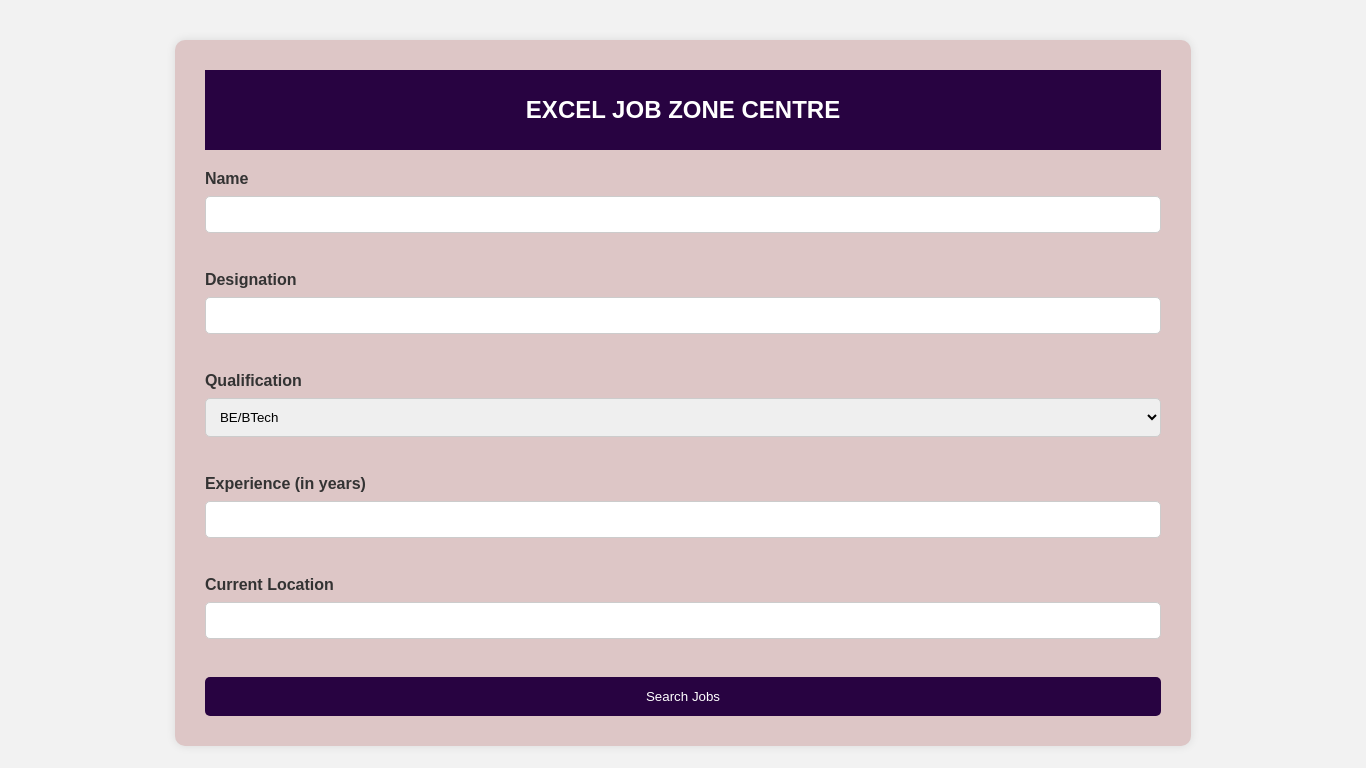
Test: Search component › retrieves companyName from JSON file when the applicant is eligible
Type "Harish" into the field with test id "name-input".
click(683, 214); type("Harish")  # box [205,196,1161,233]
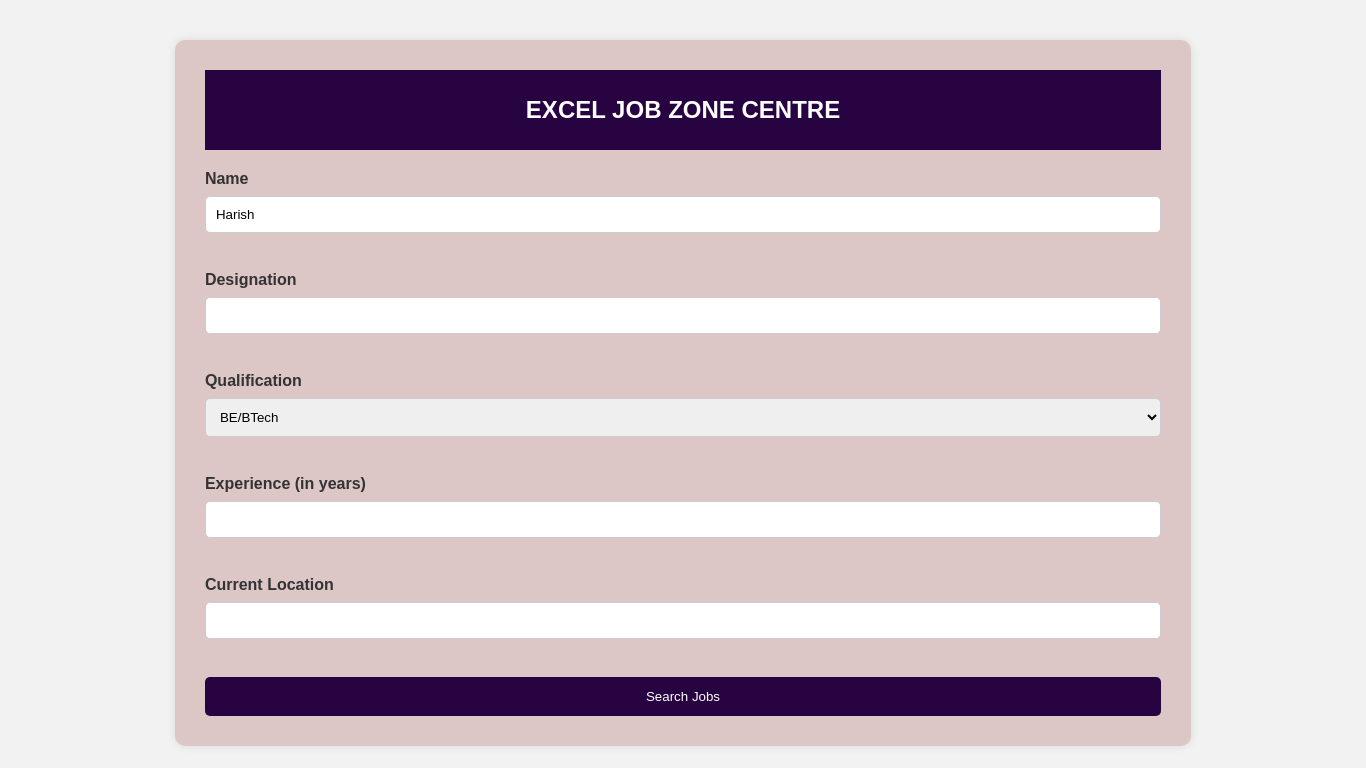
Type "Software Engineer" into the field with test id "designation-input".
click(683, 315); type("Software Engineer")  # box [205,297,1161,334]
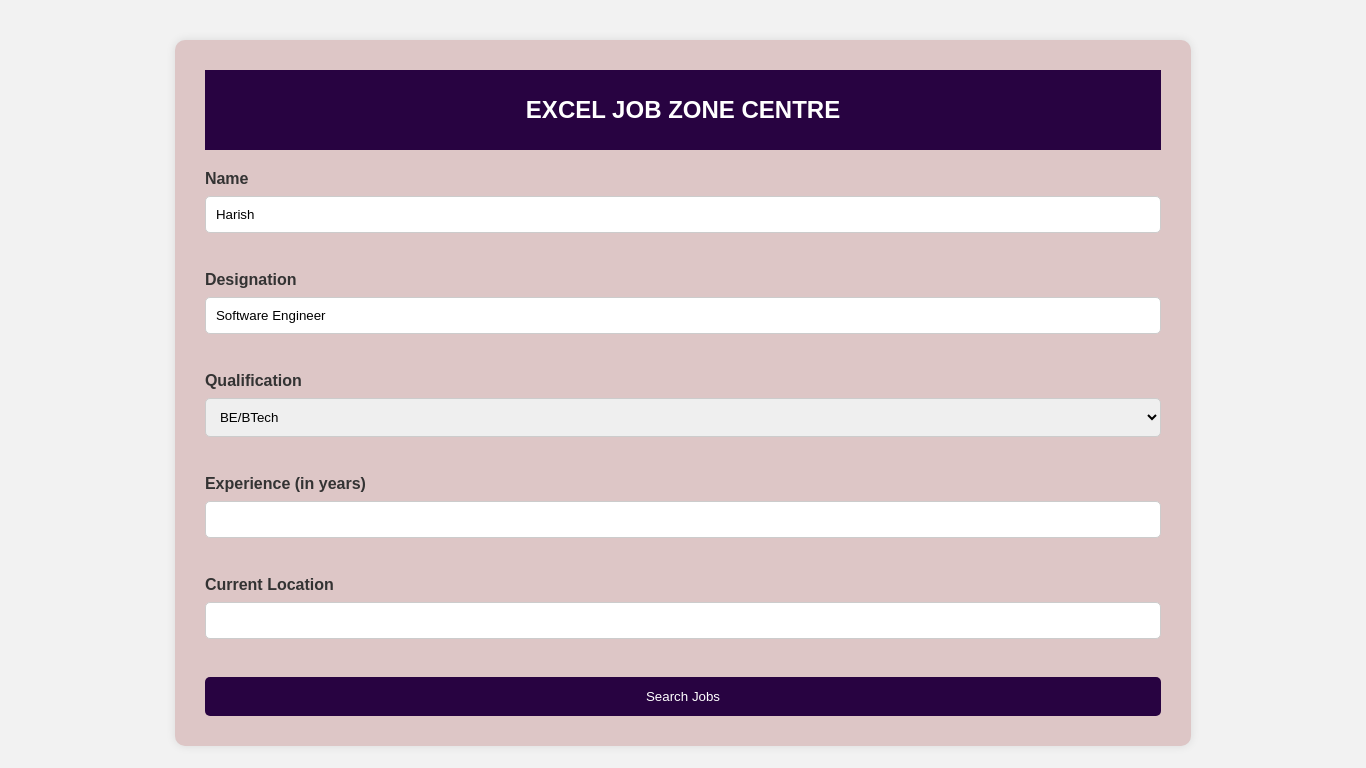
Type "3" into the number field with test id "experience-input".
click(683, 519); type("3")  # box [205,501,1161,538]
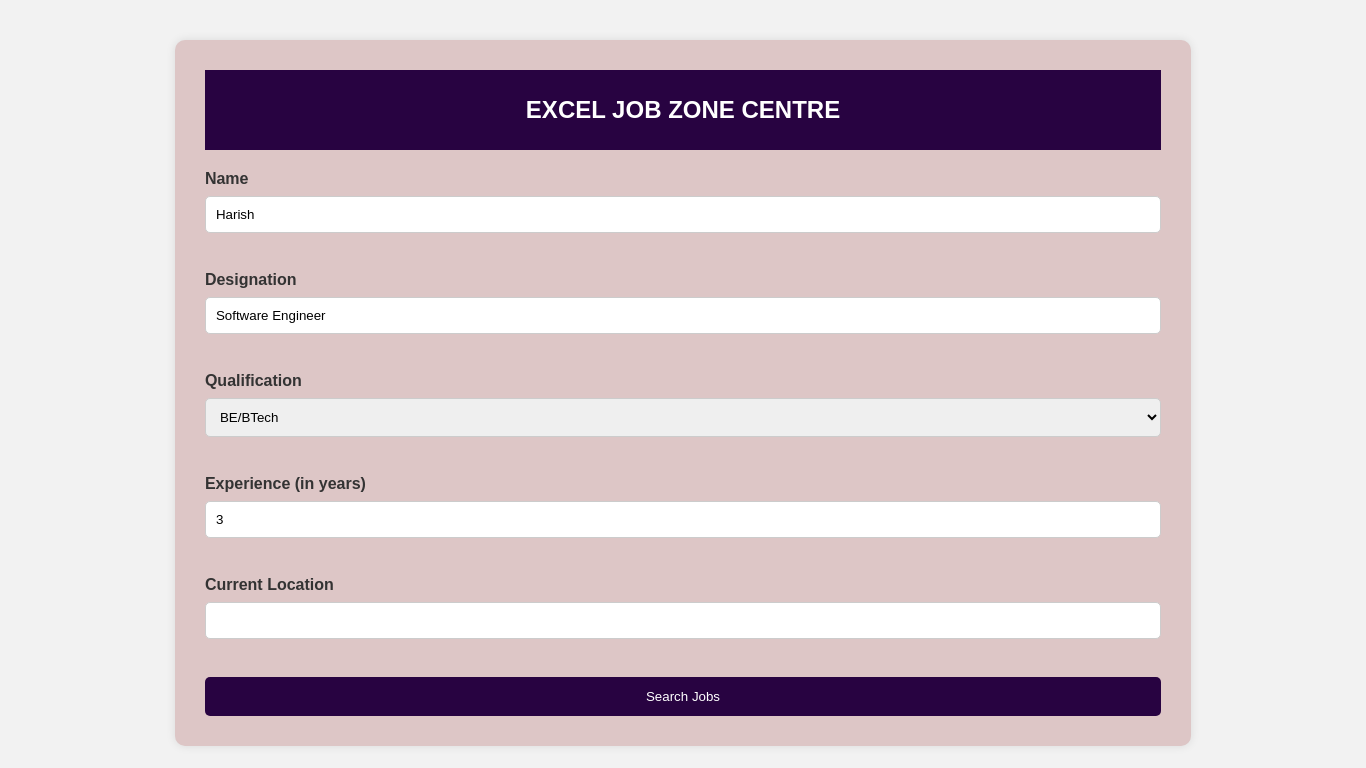
Type "New York" into the field with test id "location-input".
click(683, 620); type("New York")  # box [205,602,1161,639]
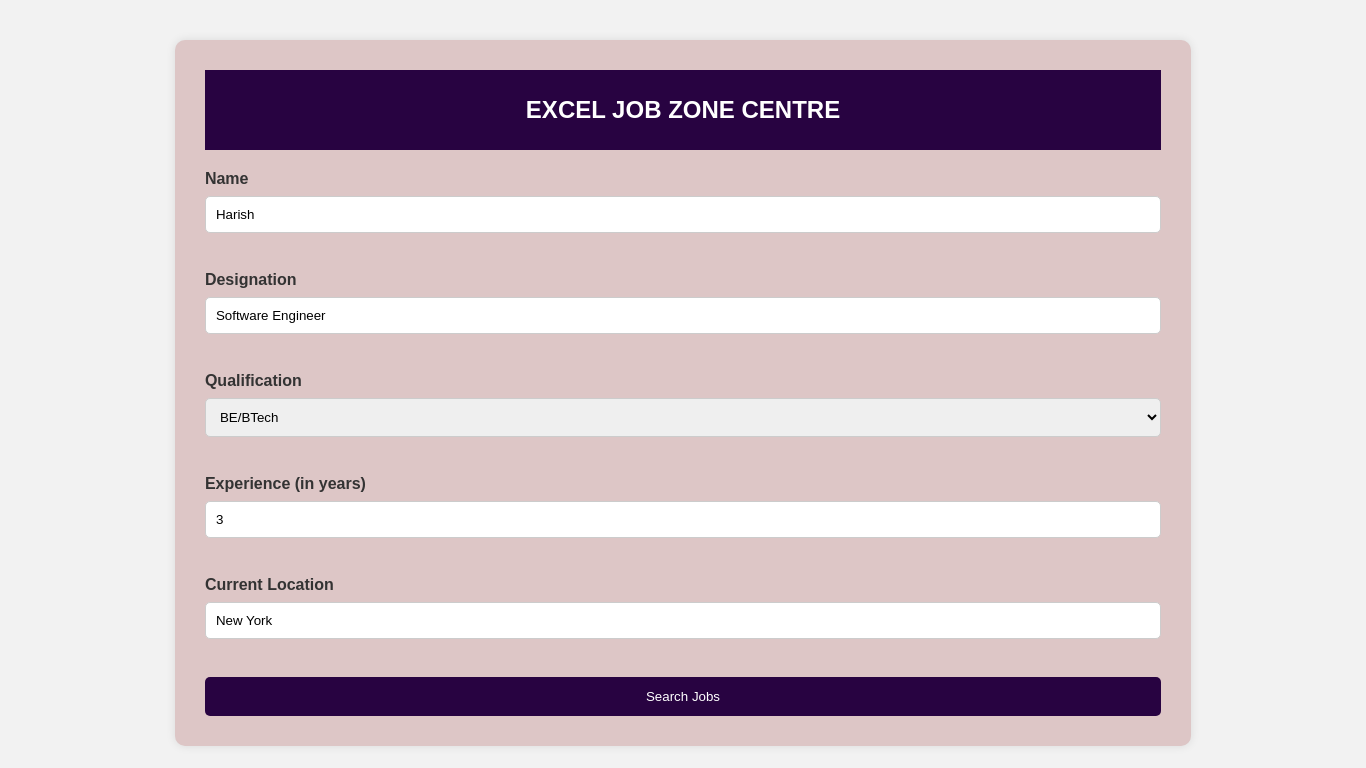
Select "BE/BTech" in the dropdown with test id "qualification-select" at coordinates (683, 417), box [205,398,1161,437]
Click the button with test id "search-button".
click(683, 696)  # box [205,677,1161,716]
(page scrolled)
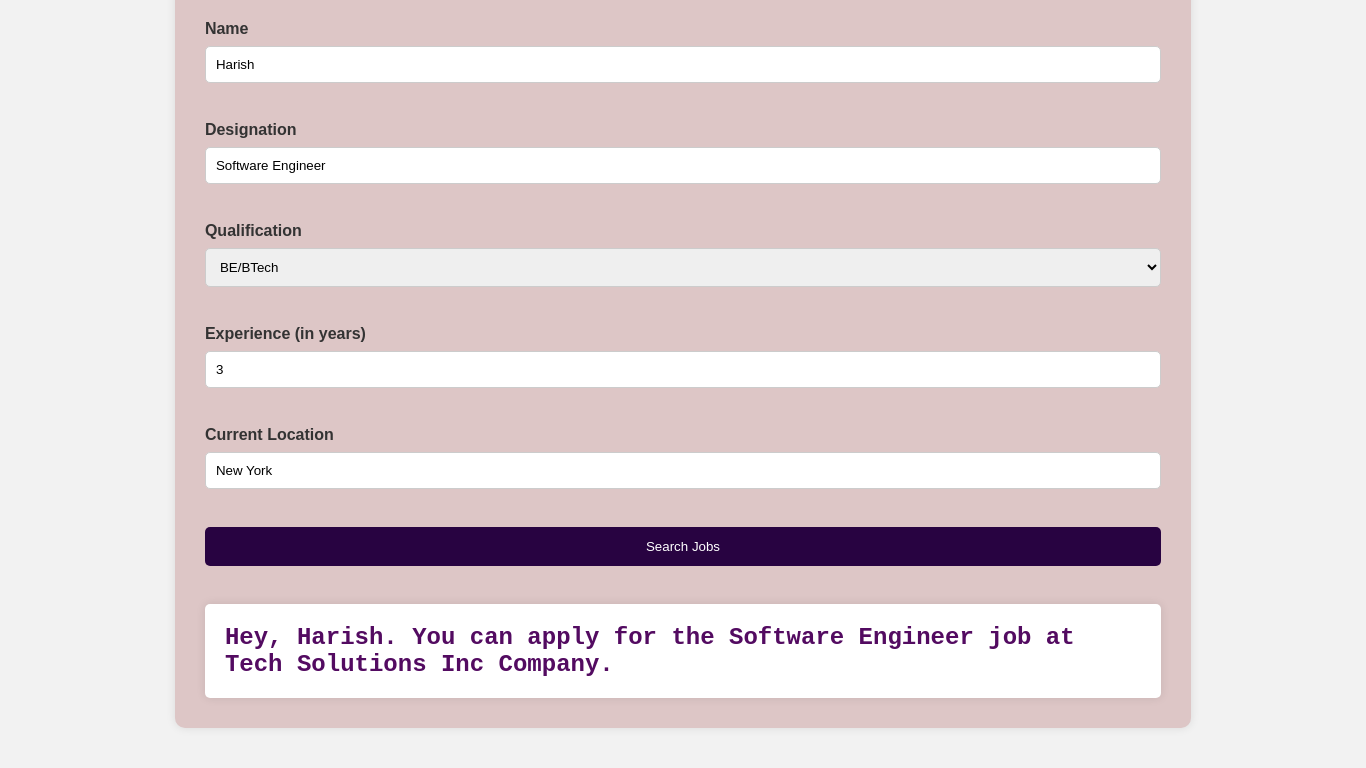
Check: the text with test id "result-message" shows "Tech Solutions Inc", box [225,624,1075,678]
